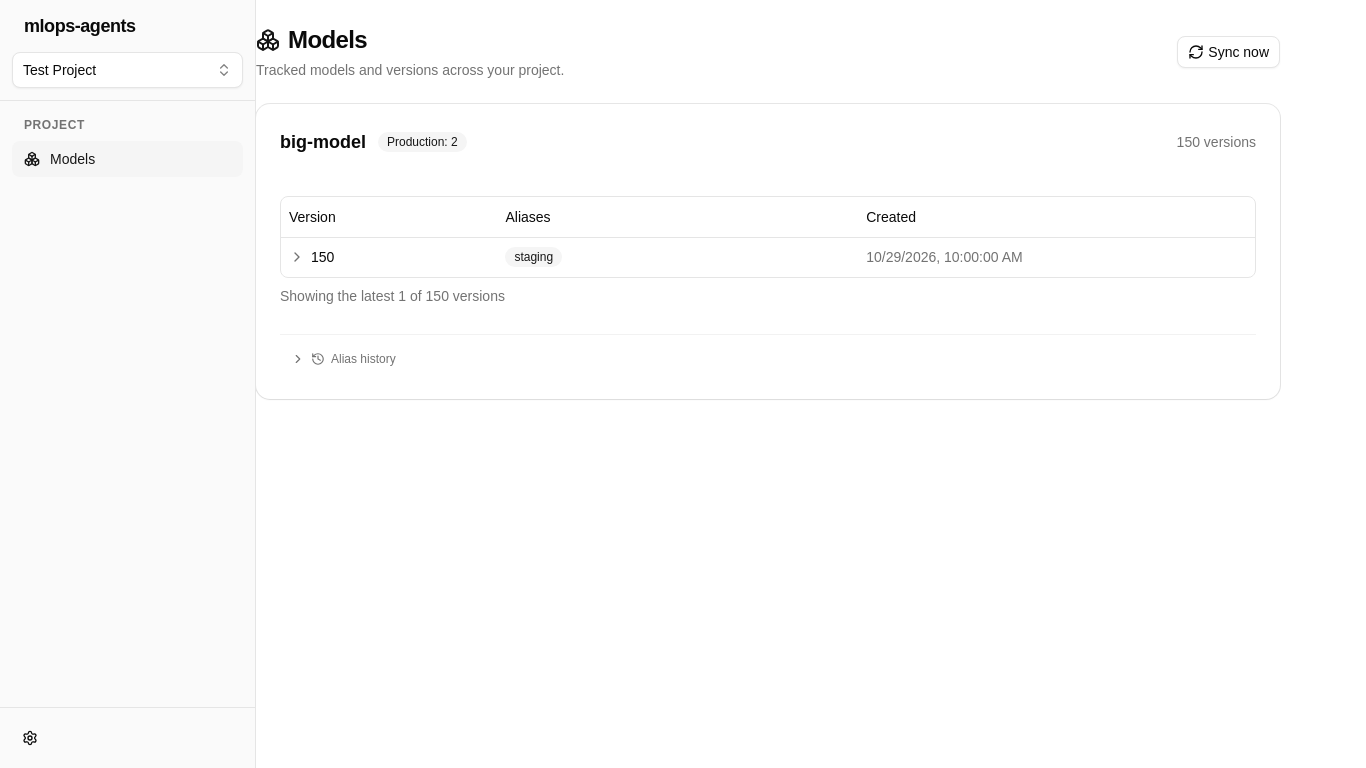
Test case: TrackedModelsPage › shows 'Showing the latest N of TOTAL versions' and 'History truncated' when pages are truncated
Expected: the text "Showing the latest 1 of 150 versions" is shown, [280, 288, 505, 304]
Click the button "Alias history" at (343, 359), box [280, 343, 407, 375]
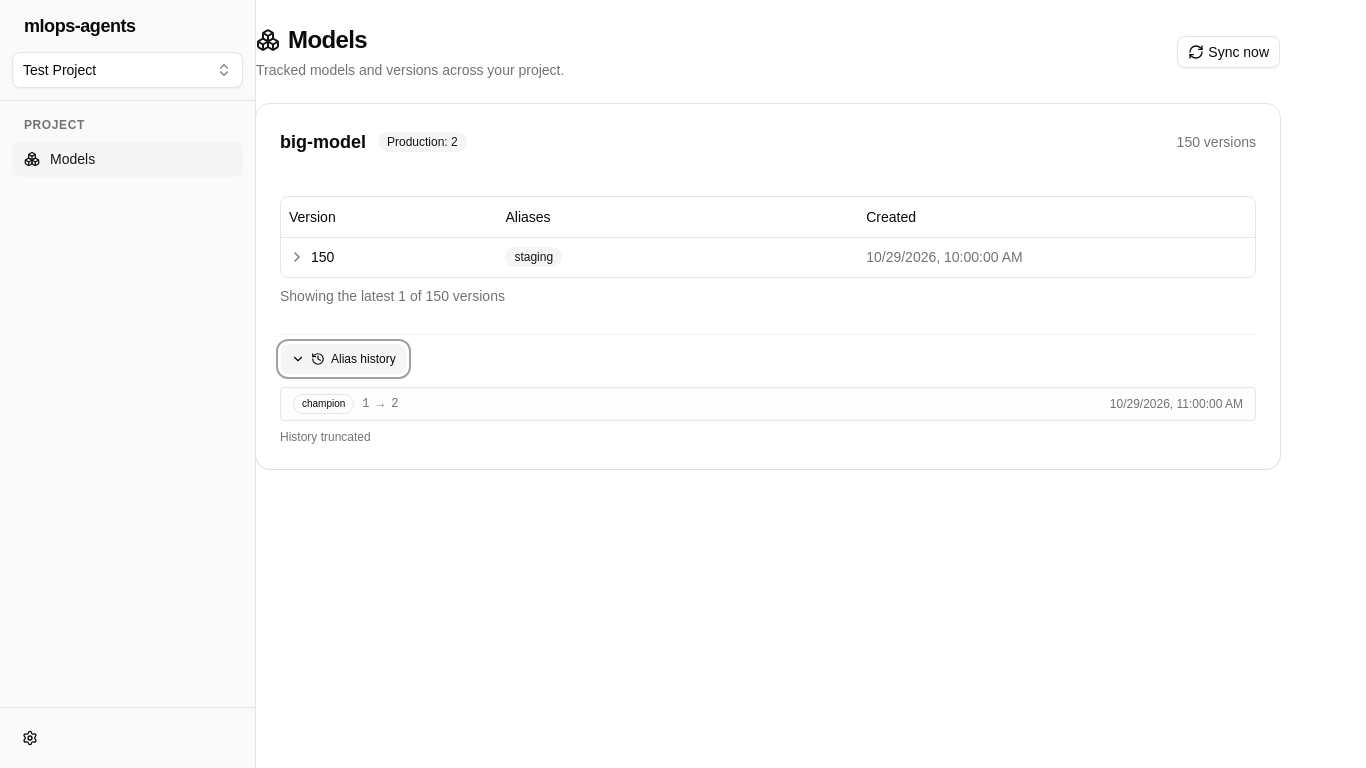
Result: the text "History truncated" is shown at [280, 430, 371, 444]
